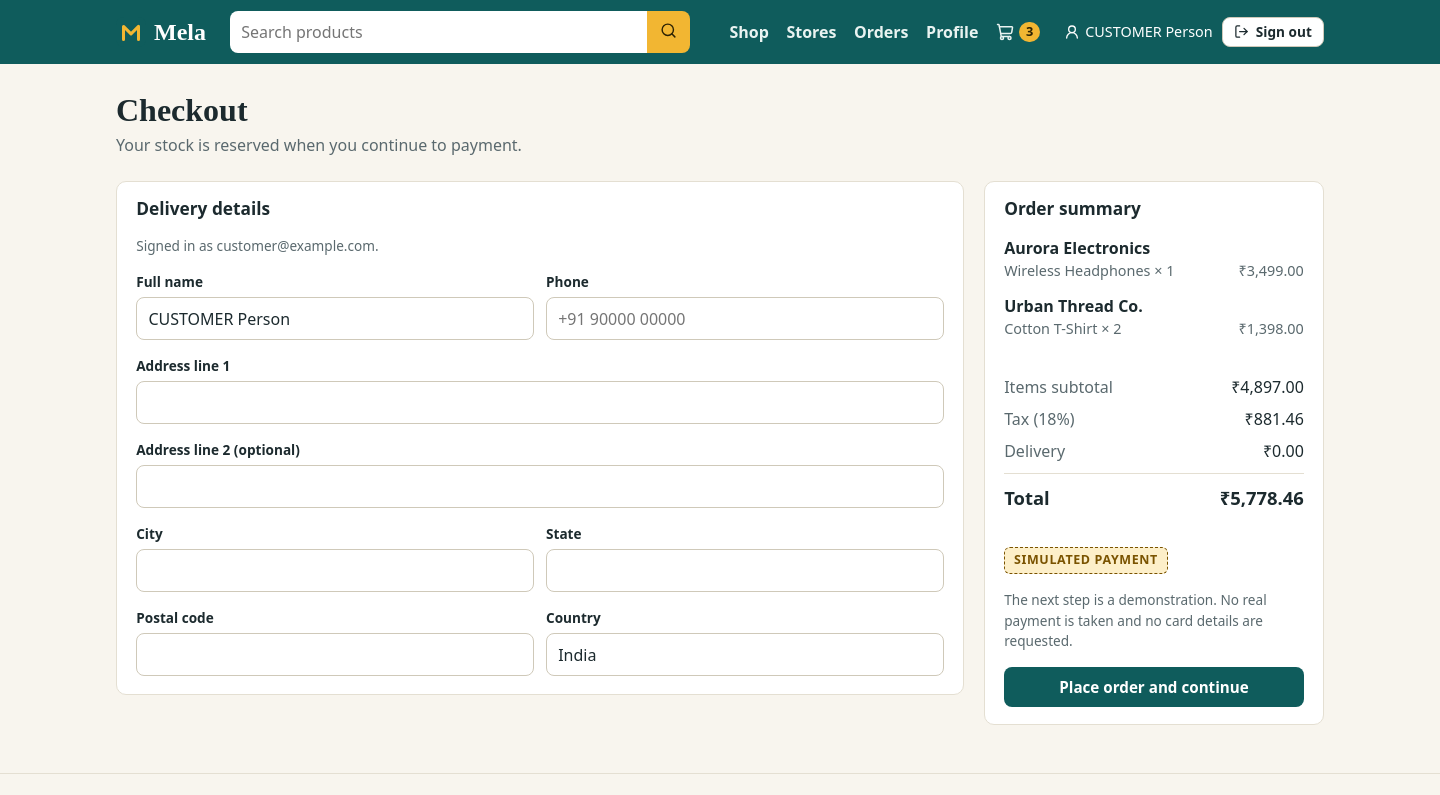
Test: checkout › sends only delivery details, then continues to simulated payment
Type "+91 90000 00010" into the field labelled "Phone" at (745, 319), box [546,297,944,340]
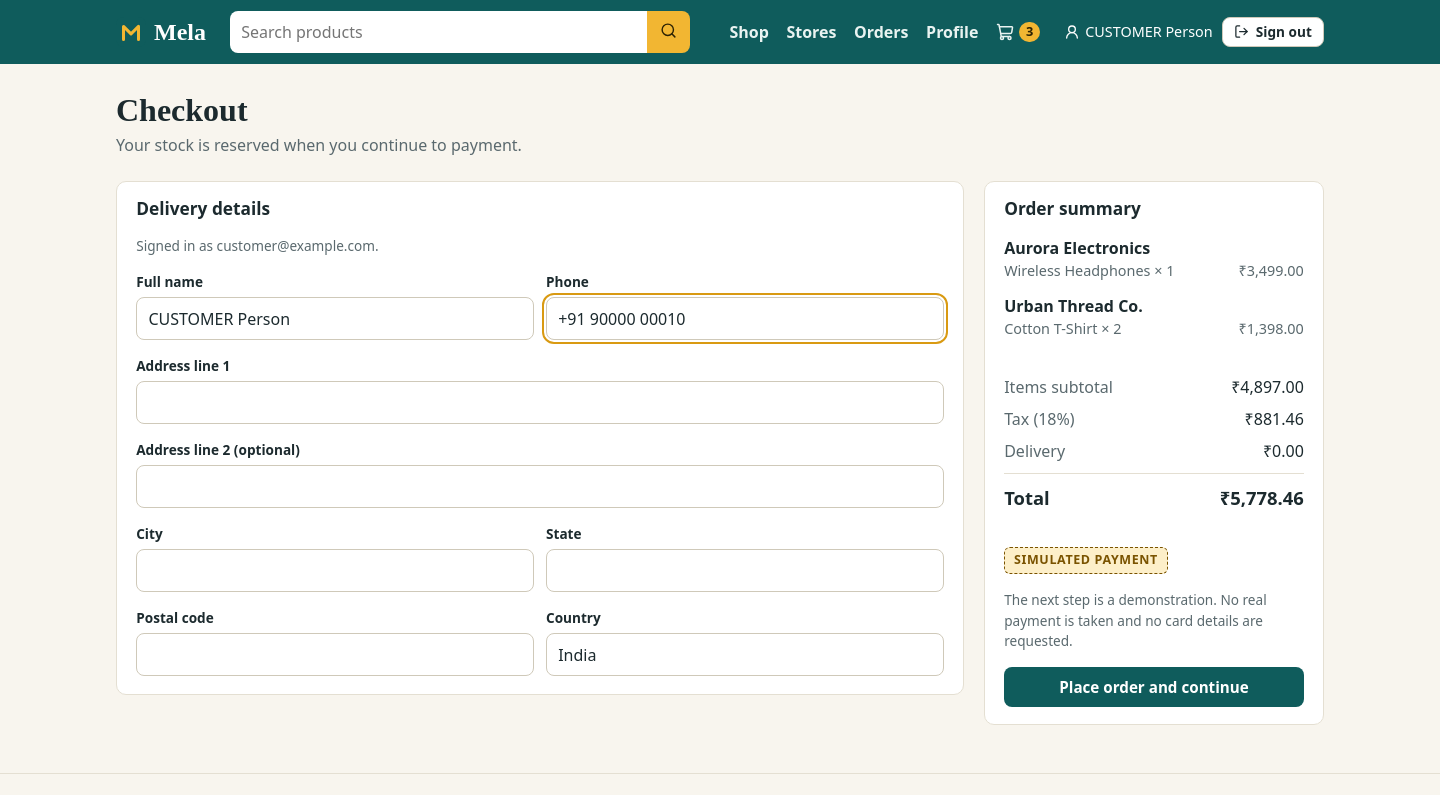
Type "101 Maple Residency" into the field labelled "Address line 1" at (540, 403), box [136,381,944,424]
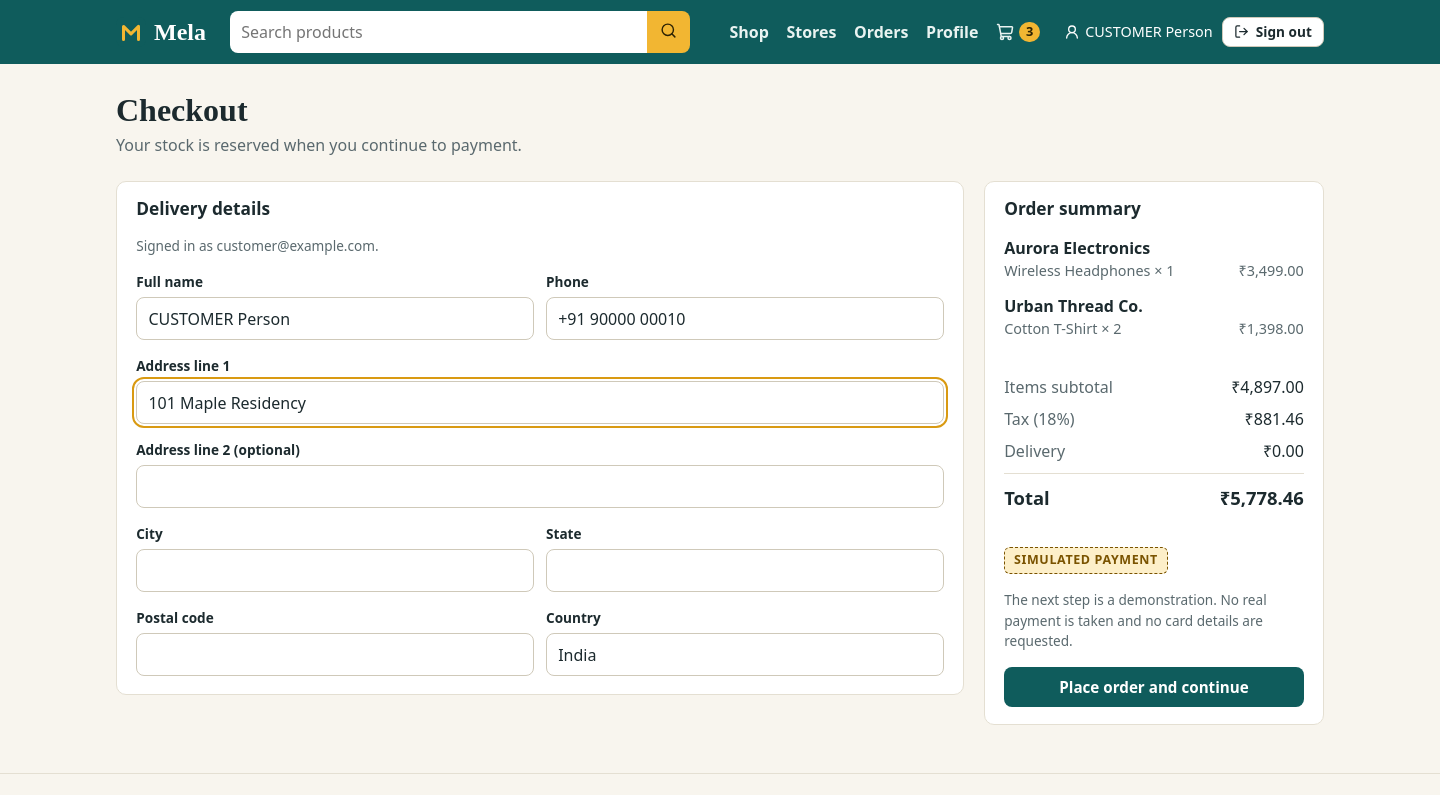
Type "Chennai" into the field labelled "City" at (335, 571), box [136,549,534,592]
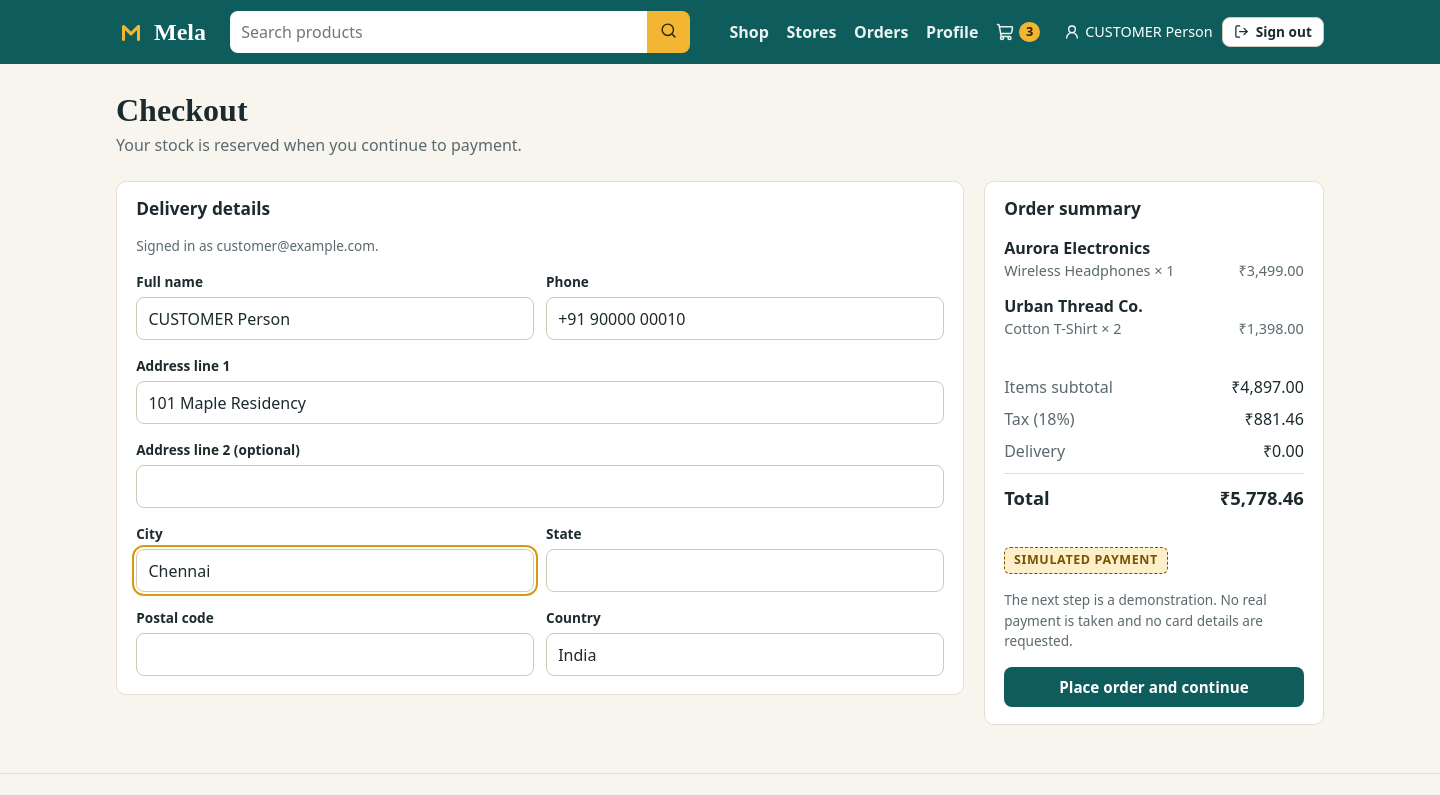
Type "Tamil Nadu" into the field labelled "State" at (745, 571), box [546,549,944,592]
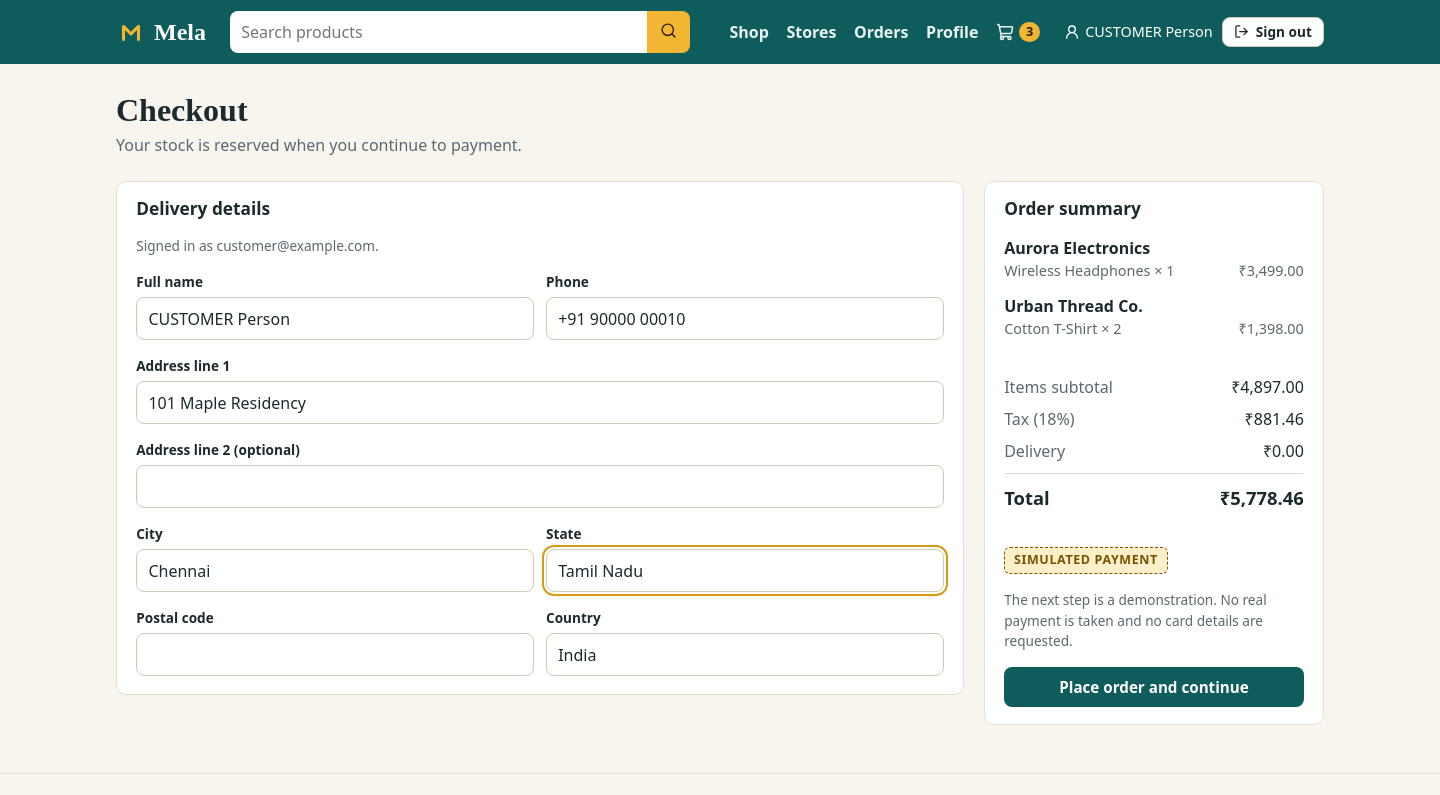
Type "600001" into the field labelled "Postal code" at (335, 655), box [136,633,534,676]
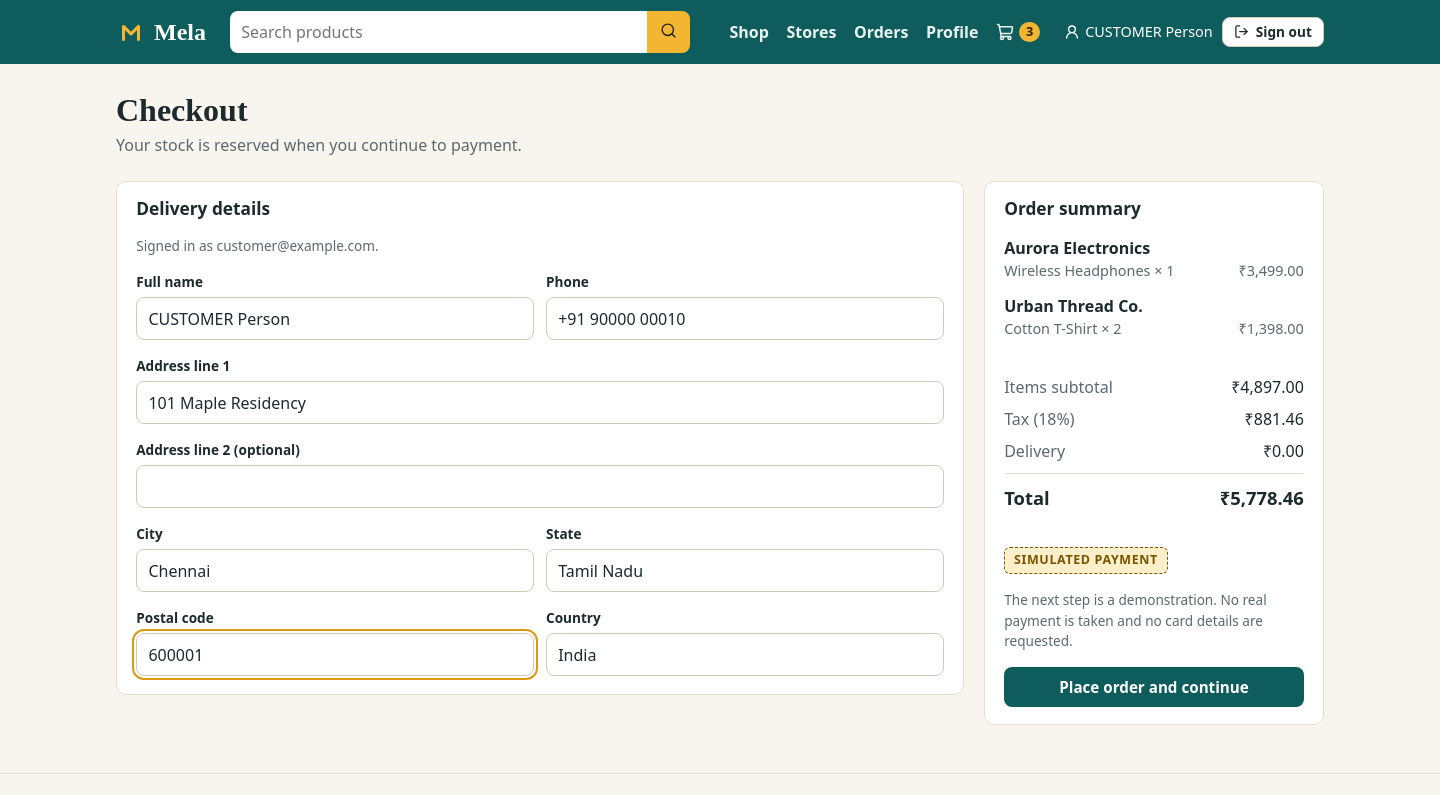
Click the button "Place order and continue" at (1154, 687), box [1004,667,1304,707]
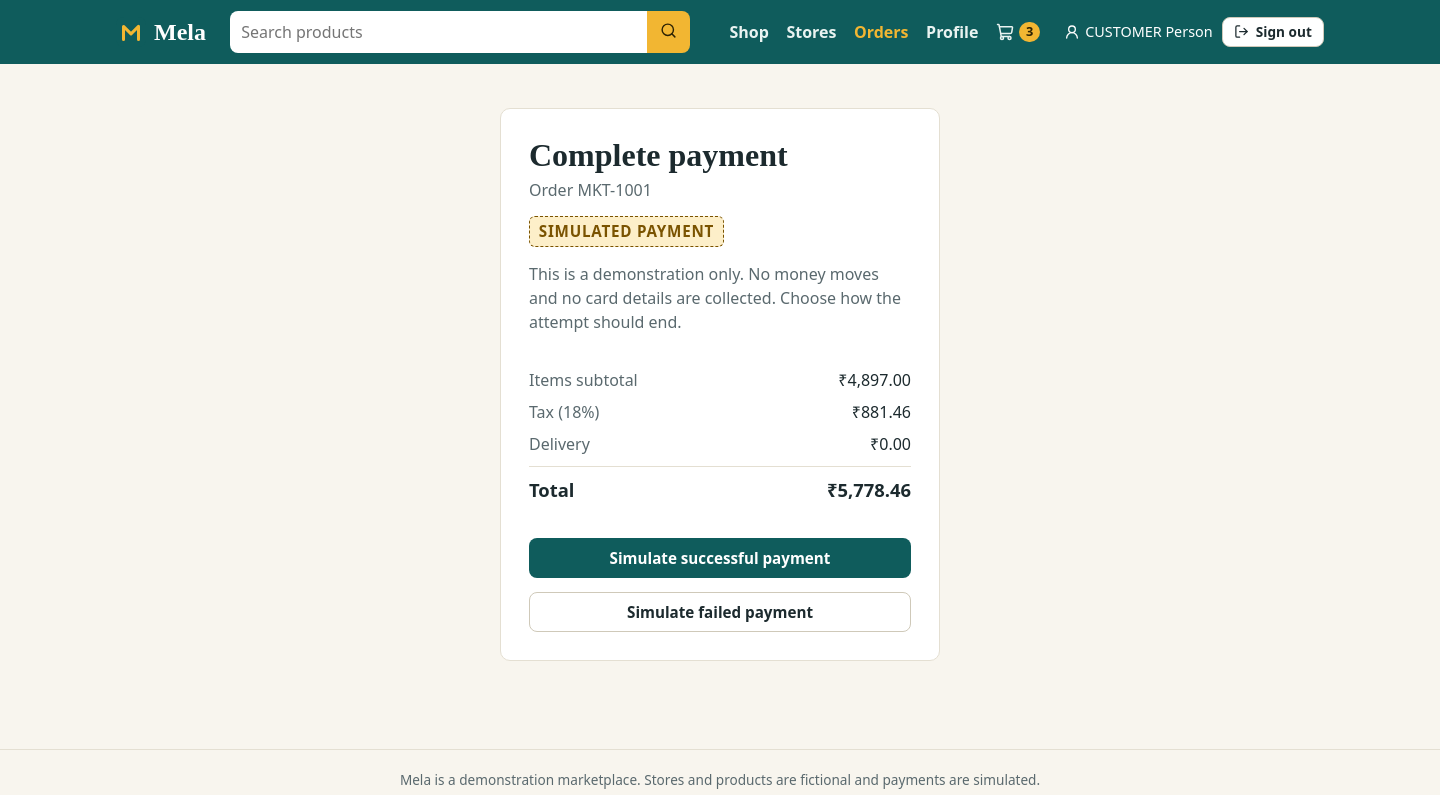
Check: the text "SIMULATED PAYMENT" is shown, box [529,216,724,247]
Check: the heading "Complete payment" is shown, box [529,137,788,174]
